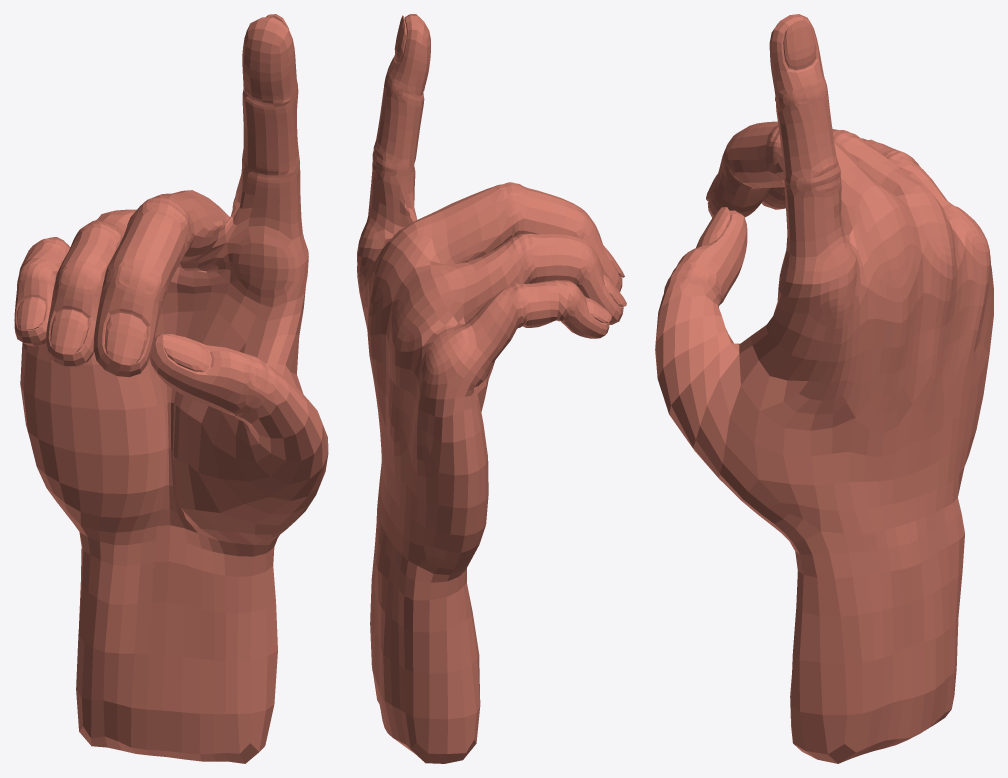
Rendered from toin.glb.
The picture shows the model from 3 angles, left to right: view 1: azimuth 30°, elevation 25°; view 2: azimuth 150°, elevation 25°; view 3: azimuth 270°, elevation 25°; orthographic projection. The views are drawn at different scales.
Parts seen in each view (by area): view 1: ZBrushPolyMesh3D; view 2: ZBrushPolyMesh3D; view 3: ZBrushPolyMesh3D.
Boxes of the visible parts, left/top/right/bottom form: ZBrushPolyMesh3D: left=14, top=14, right=328, bottom=763; ZBrushPolyMesh3D: left=357, top=14, right=626, bottom=763; ZBrushPolyMesh3D: left=655, top=14, right=993, bottom=763.
Size of the model in its own units: 1.98 by 5.07 by 2.08.
